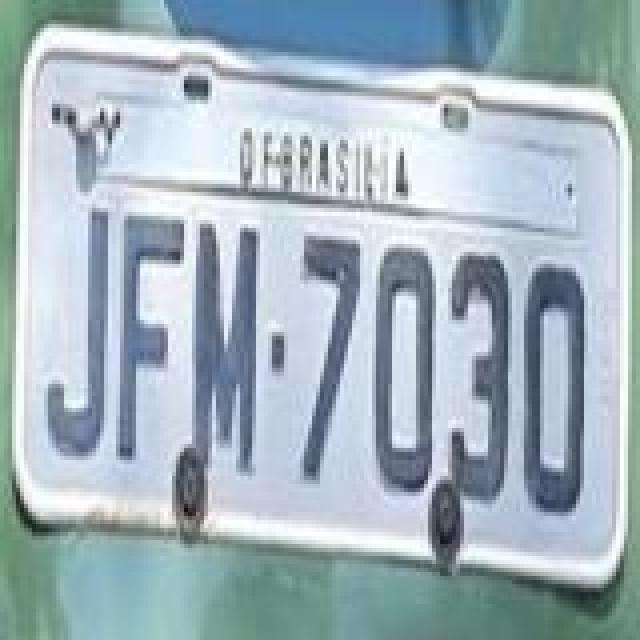3: (448, 250, 512, 502)
7: (300, 234, 364, 486)
F: (118, 210, 186, 462)
J: (44, 208, 108, 464)
M: (190, 222, 258, 466)
O: (520, 258, 584, 518), (372, 240, 436, 496)
